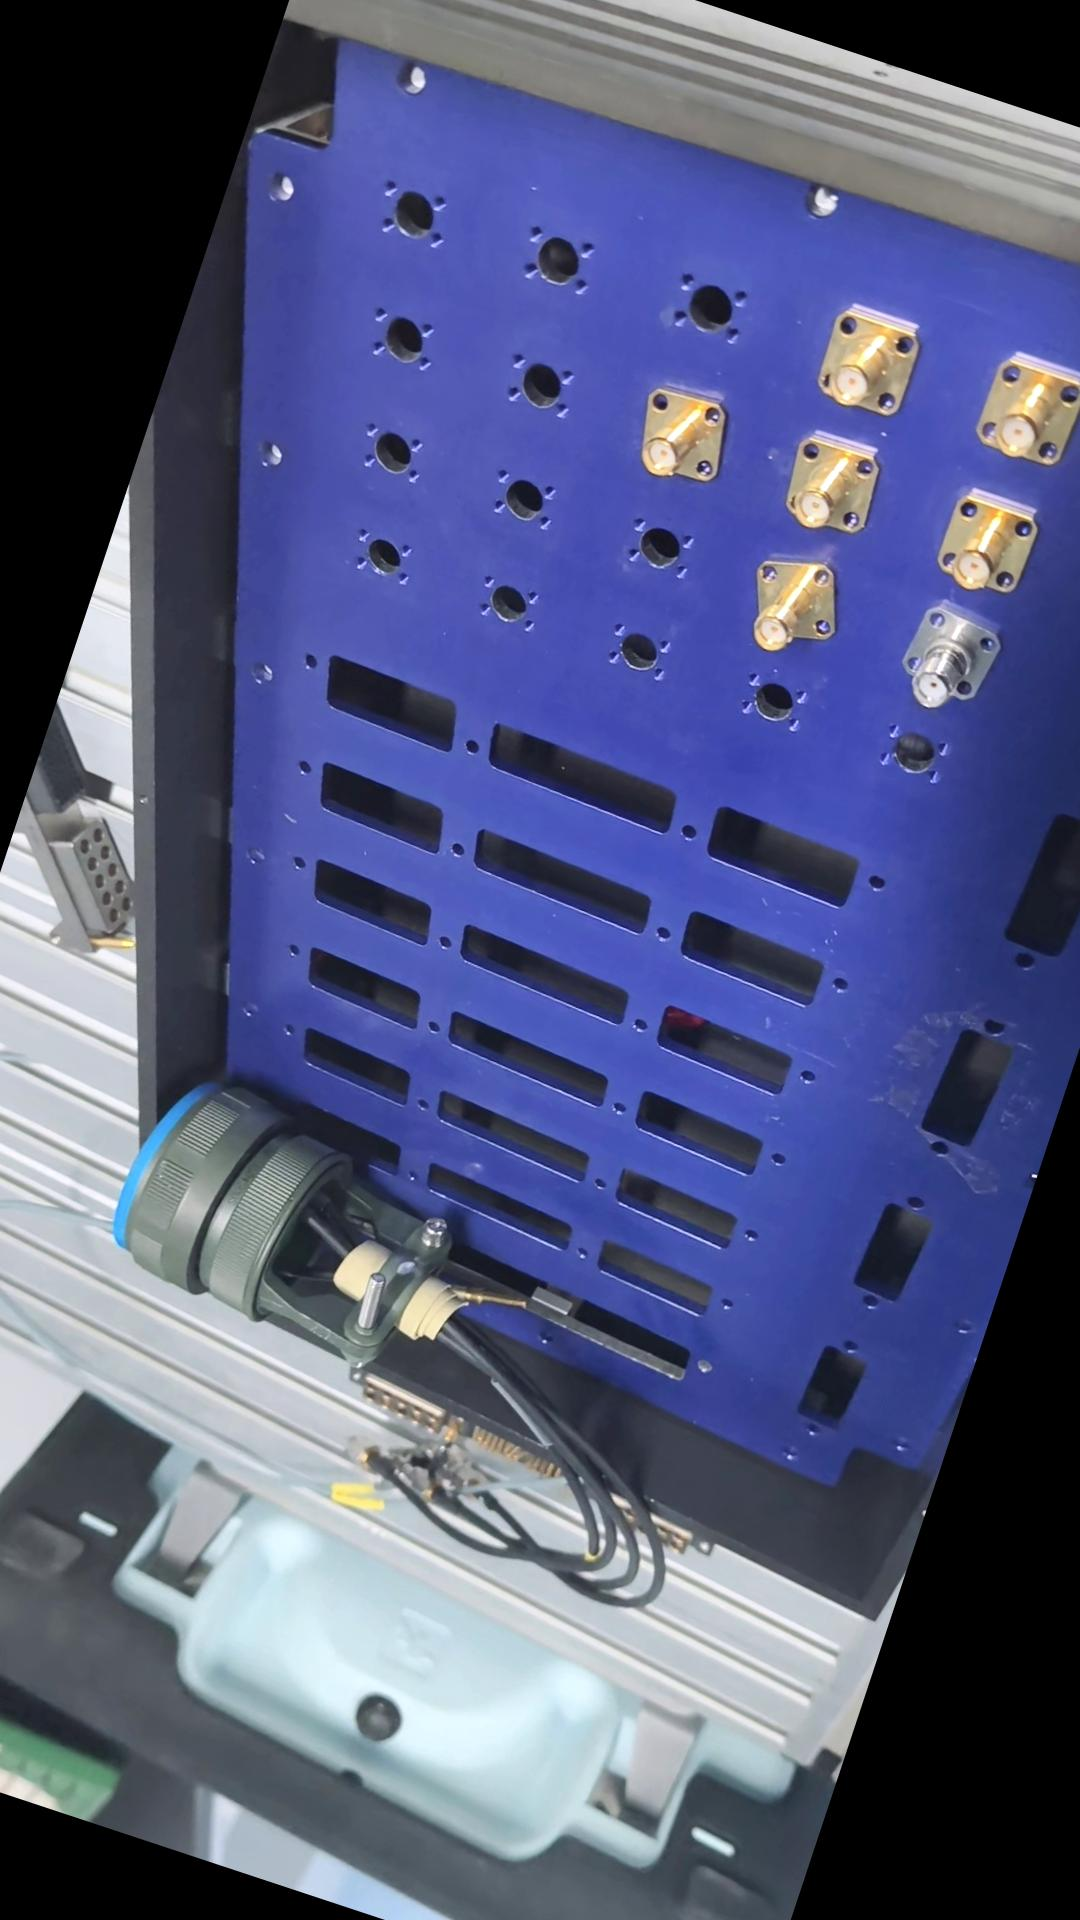SMA: (959, 339, 1080, 479), (804, 295, 928, 425), (887, 593, 1011, 723), (728, 538, 847, 665), (928, 483, 1040, 597), (626, 375, 735, 492), (774, 427, 877, 541)
